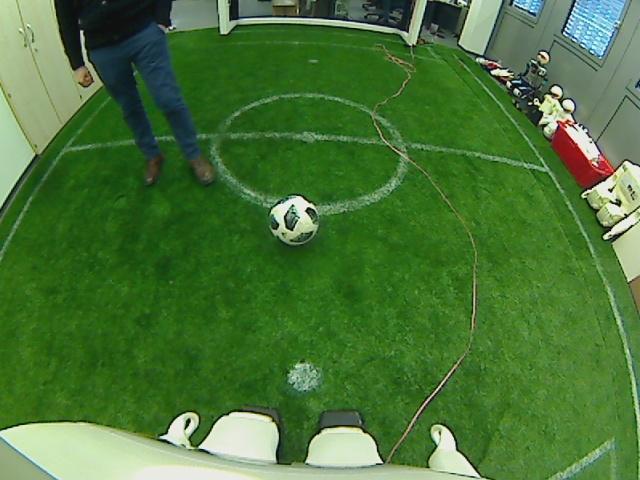ball: (267, 195, 320, 246)
